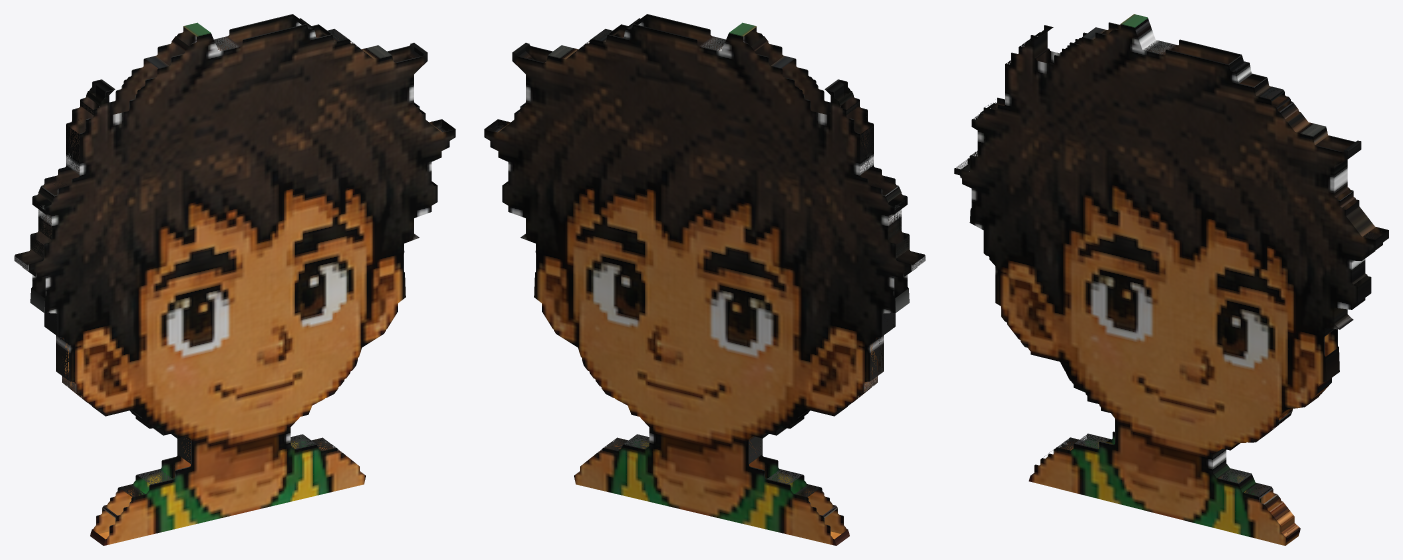
File: portrait.fbx
The picture shows the model from 3 angles, left to right: view 1: azimuth 30°, elevation 25°; view 2: azimuth 150°, elevation 25°; view 3: azimuth 330°, elevation 25°; orthographic projection.
Parts seen in each view (by area): view 1: geometry_0; view 2: geometry_0; view 3: geometry_0.
Boxes of the visible parts, x1=… form: geometry_0: x1=14, y1=14, x2=455, y2=545; geometry_0: x1=484, y1=14, x2=925, y2=545; geometry_0: x1=954, y1=14, x2=1388, y2=545.
Size of the model in its own units: 2.15 by 2.35 by 0.118.
1 material, 1 textured.
